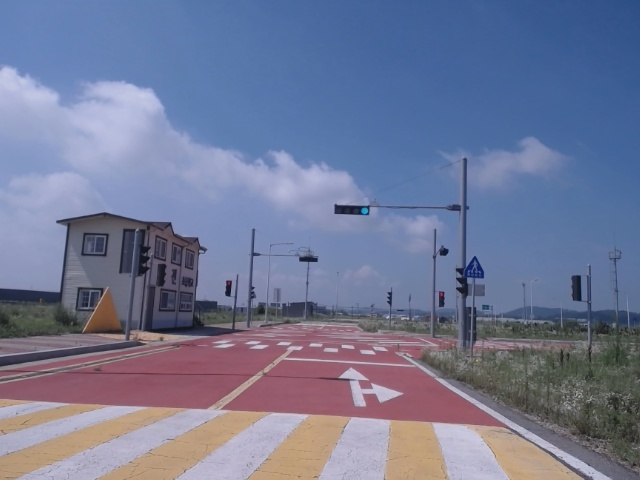straight_green_4: (333, 206, 370, 215)
